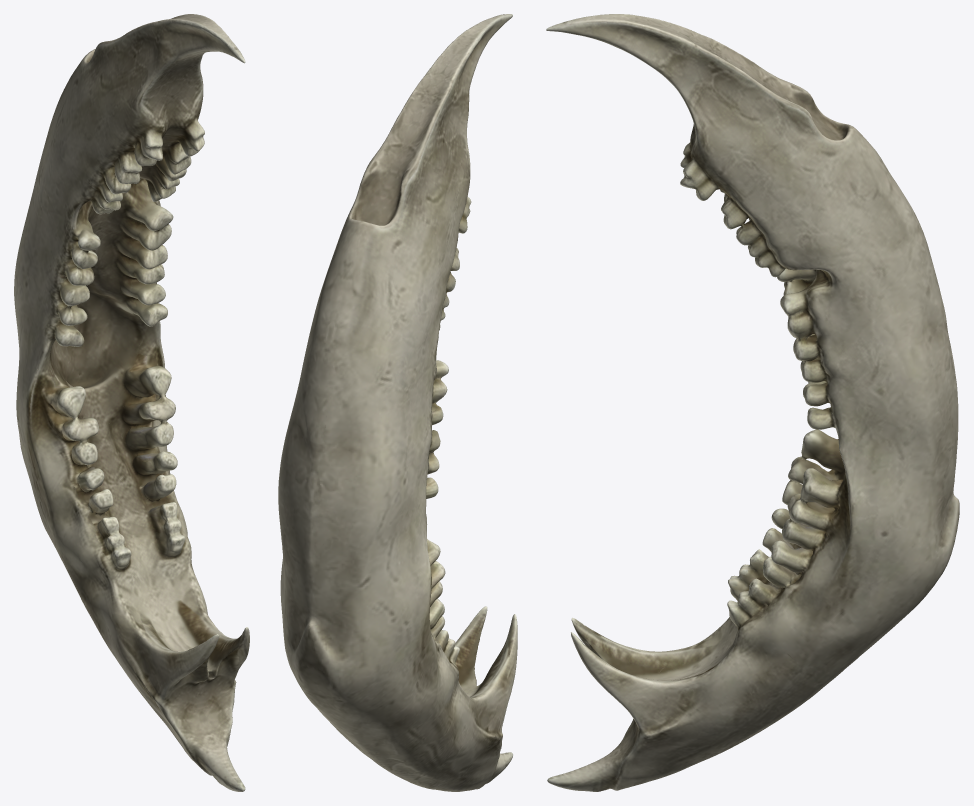
The picture shows the model from 3 angles, left to right: view 1: azimuth 30°, elevation 25°; view 2: azimuth 150°, elevation 25°; view 3: azimuth 270°, elevation 25°; orthographic projection. The views are drawn at different scales.
Parts seen in each view (by area): view 1: mesh_node; view 2: mesh_node; view 3: mesh_node.
Part boxes in pixels (x1,y1,x2,y2): mesh_node: (14, 14, 249, 791); mesh_node: (278, 14, 517, 791); mesh_node: (546, 14, 959, 791).
Size of the model in its own units: 0.3634 by 1.9 by 0.9172.
Materials: 1 (1 with a texture image).
